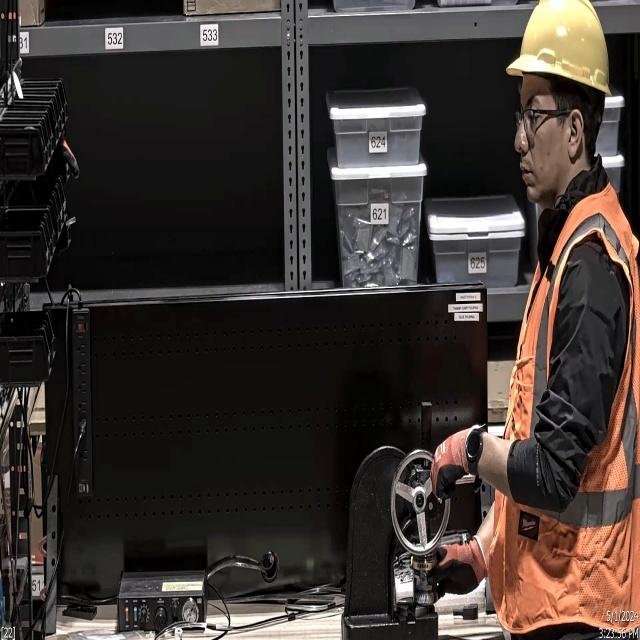construction-gloves: (402, 530, 484, 612), (430, 426, 478, 506)
